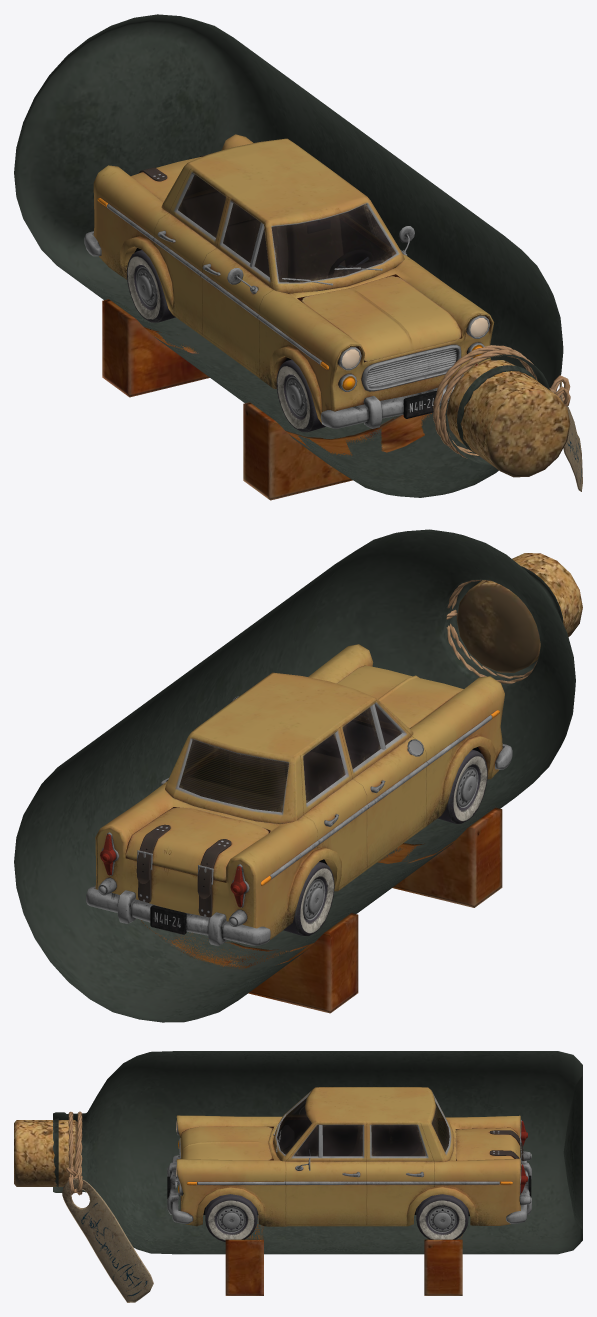
File: bottled.glb
3 views of the same model, one above another, from view 1: azimuth 30°, elevation 25°; view 2: azimuth 150°, elevation 25°; view 3: azimuth 270°, elevation 25° (orthographic). The views are drawn at different scales.
Visible parts, largest first — view 1: Bottled_BOTTLE_OUTSIDE, Bottled_Bottled_Paint, Bottled_BOTTLE_WOOD, Bottled_GLASS_N_CHROME, Bottled_INTERIOR, Wheel_FL_GLASS_N_CHROME, Wheel_RL_GLASS_N_CHROME, Bottled_NAMEPLATE; view 2: Bottled_BOTTLE_OUTSIDE, Bottled_Bottled_Paint, Bottled_BOTTLE_WOOD, Bottled_GLASS_N_CHROME, Bottled_INTERIOR, Wheel_RL_GLASS_N_CHROME, Wheel_FL_GLASS_N_CHROME; view 3: Bottled_BOTTLE_OUTSIDE, Bottled_Bottled_Paint, Bottled_BOTTLE_WOOD, Bottled_GLASS_N_CHROME, Bottled_NAMEPLATE, Bottled_INTERIOR, Wheel_FR_GLASS_N_CHROME, Wheel_RR_GLASS_N_CHROME.
Boxes of the visible parts, left/top/right/bottom form: Bottled_BOTTLE_OUTSIDE: left=14, top=14, right=563, bottom=497; Bottled_Bottled_Paint: left=93, top=134, right=494, bottom=423; Bottled_BOTTLE_WOOD: left=102, top=299, right=570, bottom=500; Bottled_GLASS_N_CHROME: left=84, top=153, right=490, bottom=428; Bottled_INTERIOR: left=185, top=192, right=390, bottom=291; Wheel_FL_GLASS_N_CHROME: left=276, top=359, right=325, bottom=432; Wheel_RL_GLASS_N_CHROME: left=127, top=250, right=175, bottom=322; Bottled_NAMEPLATE: left=559, top=381, right=582, bottom=491; Bottled_BOTTLE_OUTSIDE: left=14, top=529, right=575, bottom=1022; Bottled_Bottled_Paint: left=95, top=644, right=504, bottom=939; Bottled_BOTTLE_WOOD: left=141, top=553, right=582, bottom=1013; Bottled_GLASS_N_CHROME: left=86, top=696, right=512, bottom=945; Bottled_INTERIOR: left=179, top=720, right=387, bottom=808; Wheel_RL_GLASS_N_CHROME: left=283, top=861, right=334, bottom=936; Wheel_FL_GLASS_N_CHROME: left=438, top=749, right=487, bottom=823; Bottled_BOTTLE_OUTSIDE: left=53, top=1051, right=582, bottom=1254; Bottled_Bottled_Paint: left=176, top=1087, right=520, bottom=1226; Bottled_BOTTLE_WOOD: left=14, top=1111, right=462, bottom=1295; Bottled_GLASS_N_CHROME: left=167, top=1098, right=531, bottom=1223; Bottled_NAMEPLATE: left=62, top=1178, right=153, bottom=1302; Bottled_INTERIOR: left=278, top=1117, right=447, bottom=1155; Wheel_FR_GLASS_N_CHROME: left=205, top=1194, right=257, bottom=1242; Wheel_RR_GLASS_N_CHROME: left=416, top=1194, right=468, bottom=1239.
Bounding box in the file's own units: 0.7807 × 0.7664 × 2.
9 materials, 7 textured.
